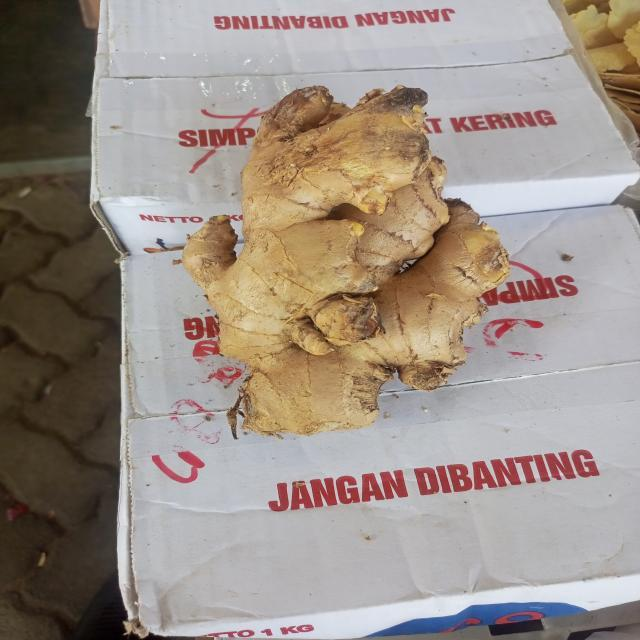ginger: (185, 82, 497, 430)
